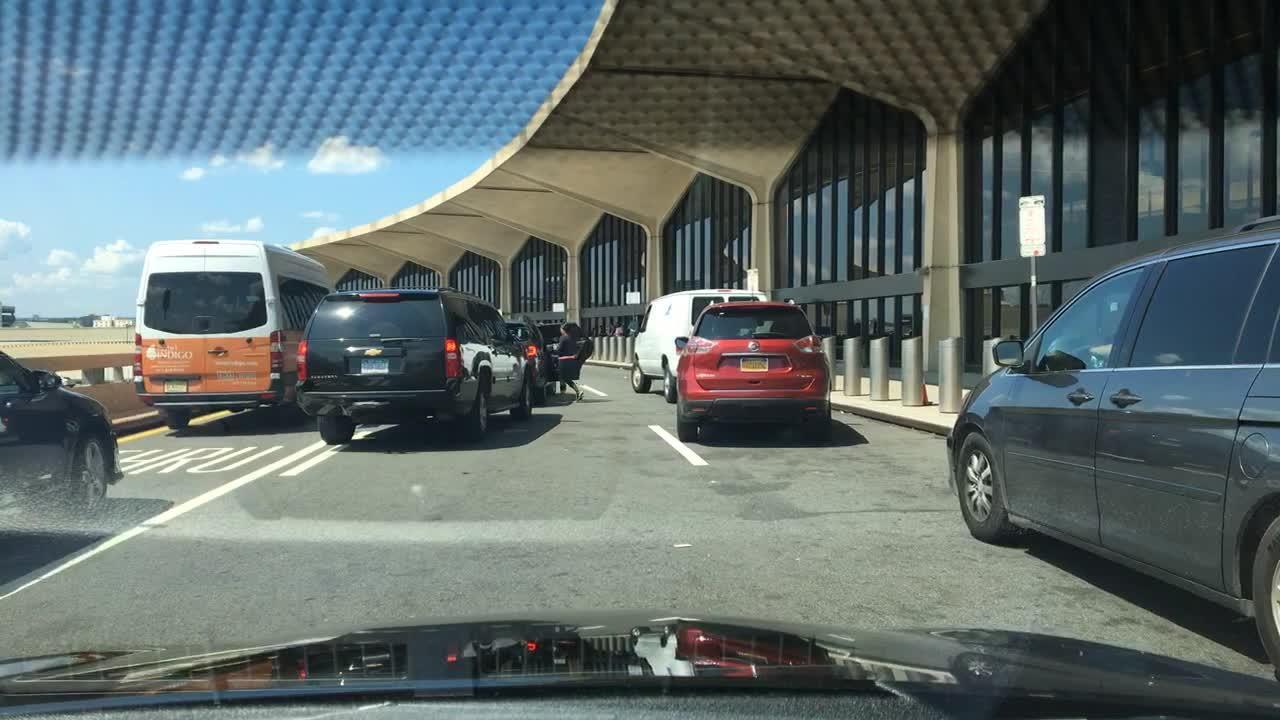chevrolet: (360, 346, 386, 361)
